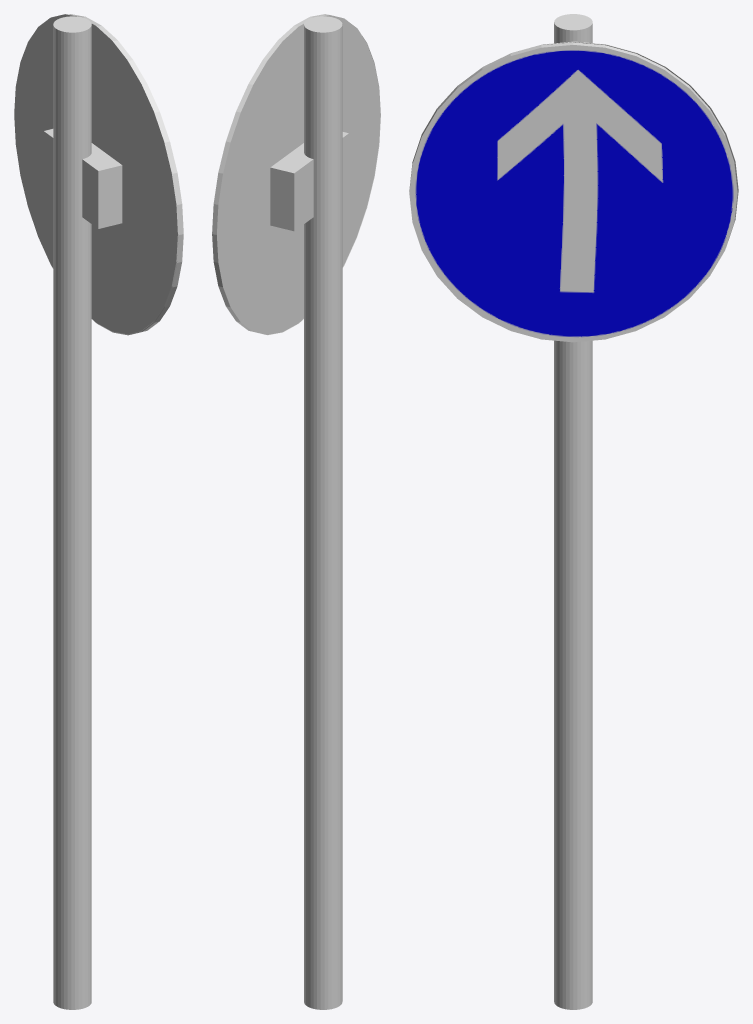
The model's file is Lurus.fbx.
3 views of the same model, side by side, from view 1: azimuth 30°, elevation 25°; view 2: azimuth 150°, elevation 25°; view 3: azimuth 270°, elevation 25° (orthographic).
Parts seen in each view (by area): view 1: Cylinder, Cylinder.001, Cube; view 2: Cylinder, Cylinder.001, Cube; view 3: Cylinder.001, Cylinder.
Boxes of the visible parts, box(x1,y1,x2,y2) form: Cylinder: box(53, 16, 91, 1009); Cylinder.001: box(14, 14, 183, 335); Cube: box(43, 129, 122, 228); Cylinder: box(304, 16, 342, 1009); Cylinder.001: box(212, 14, 380, 335); Cube: box(270, 132, 348, 231); Cylinder.001: box(409, 41, 738, 342); Cylinder: box(554, 14, 592, 1009).
Bounding box in the file's own units: 35.85 × 727 × 222.
